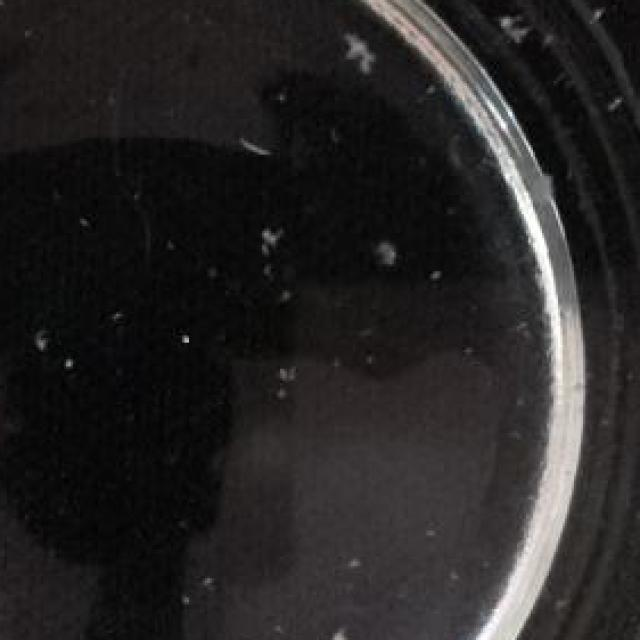Microplastic: (367, 204, 412, 280), (337, 7, 380, 86), (487, 0, 533, 55), (234, 126, 276, 167), (246, 221, 289, 255), (305, 618, 369, 640)
